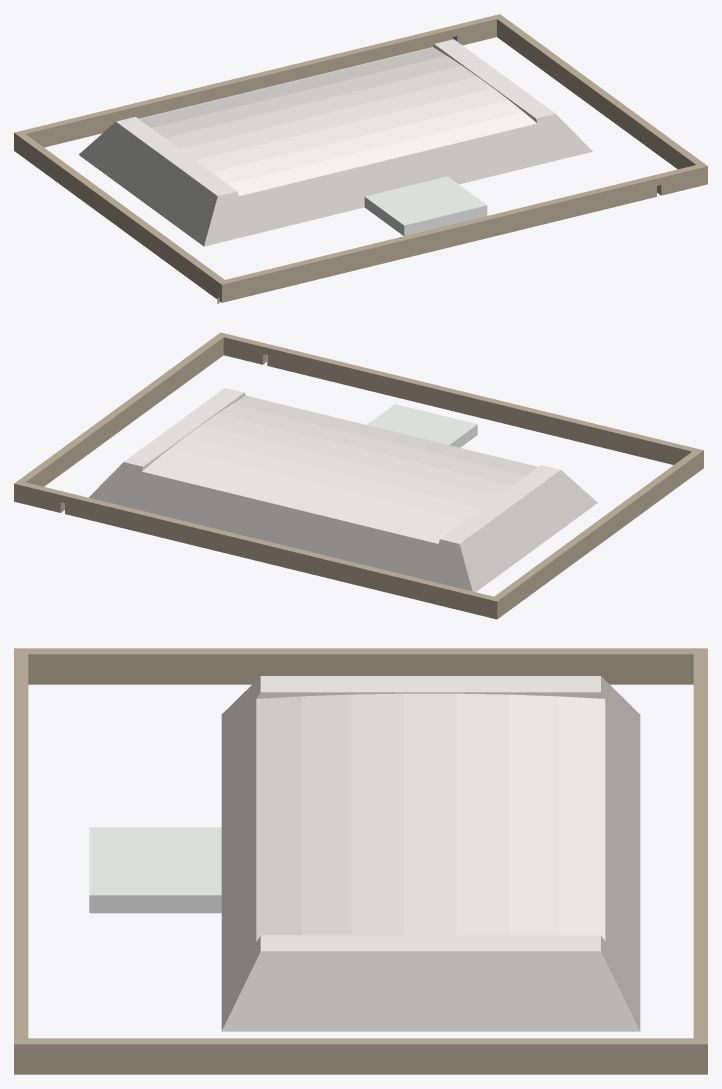
File: Hetepsekhemwy_v2.glb
3 renders of one model, top to bottom at view 1: azimuth 30°, elevation 25°; view 2: azimuth 150°, elevation 25°; view 3: azimuth 270°, elevation 25°, orthographic. The views are drawn at different scales.
Parts seen in each view (by area): view 1: Mesh1 Component_1_1 Model, Mesh2 Model, Mesh3 Model; view 2: Mesh1 Component_1_1 Model, Mesh2 Model, Mesh3 Model; view 3: Mesh1 Component_1_1 Model, Mesh2 Model, Mesh3 Model.
Part boxes in pixels (<box>): Mesh1 Component_1_1 Model: <box>79,39,592,246</box>; Mesh2 Model: <box>14,14,707,302</box>; Mesh3 Model: <box>364,176,487,235</box>; Mesh1 Component_1_1 Model: <box>89,388,597,591</box>; Mesh2 Model: <box>14,332,703,619</box>; Mesh3 Model: <box>367,404,477,447</box>; Mesh1 Component_1_1 Model: <box>221,676,640,1031</box>; Mesh2 Model: <box>14,648,707,1074</box>; Mesh3 Model: <box>89,827,221,913</box>.
Bounding box in the file's own units: 142 × 9.82 × 104.
